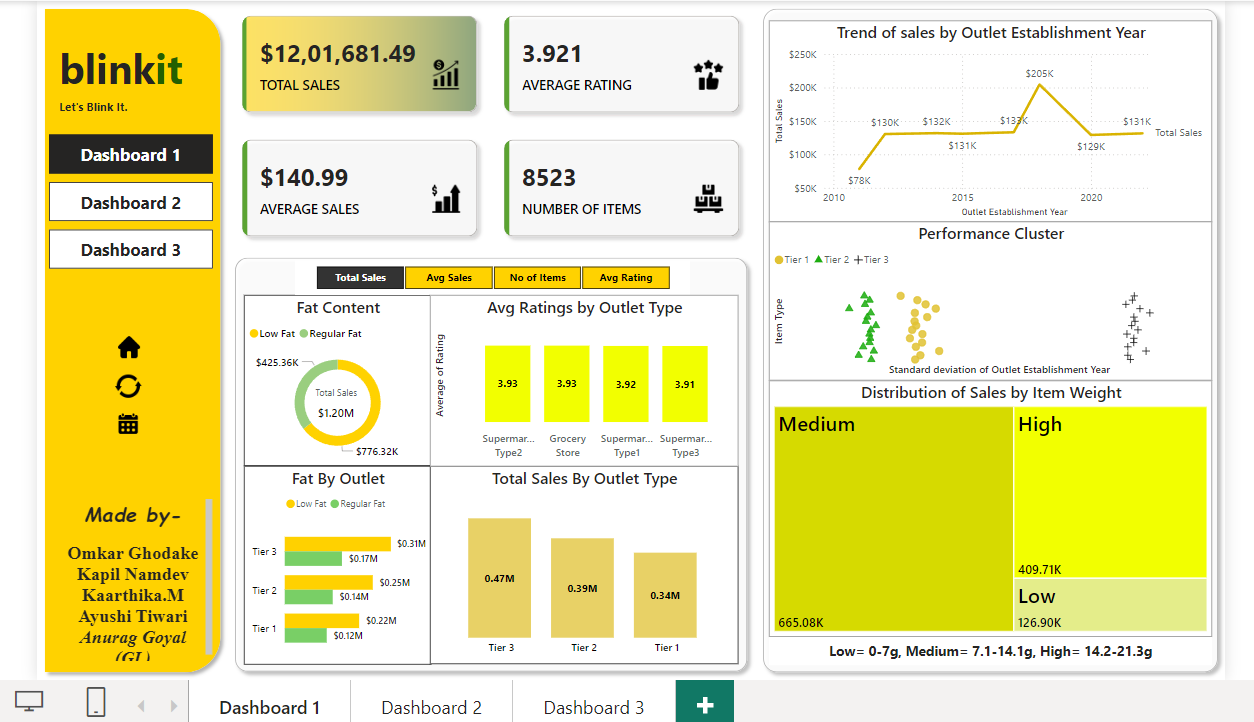

This screenshot's page, from the dashboard's own definition file:
{"tool":"powerbi","page":{"name":"Dashboard 1","canvas":[1400,800],"ordinal":0},"visuals":[{"type":"shape","box":[0,0,225.1,800],"z":0},{"type":"textbox","box":[21,40.5,178.6,84],"z":1000},{"type":"textbox","box":[21,109.6,126.1,31.5],"z":2000},{"type":"cardVisual","fields":{"Data":["BlinkIT Grocery Data.Total Sales","BlinkIT Grocery Data.Avg Rating","BlinkIT Grocery Data.Avg Sales","BlinkIT Grocery Data.No of Items"]},"box":[225.1,0,621.4,294.2],"z":3000},{"type":"shape","box":[225.1,294.2,621.4,505.8],"z":4000},{"type":"donutChart","title":"Fat Content","fields":{"Y":["BlinkIT Grocery Data.Total Sales"],"Category":["BlinkIT Grocery Data.Item Fat Content"]},"box":[243.1,346.7,220.6,201.1],"z":5000},{"type":"slicer","fields":{"Values":["Metrices.Metrices"]},"box":[303.2,306.2,465.3,40.5],"z":6000},{"type":"cardVisual","fields":{"Data":["BlinkIT Grocery Data.Total Sales"]},"box":[304.7,436.8,97.6,75],"z":7000},{"type":"clusteredBarChart","title":"Fat By Outlet","fields":{"Y":["BlinkIT Grocery Data.Total Sales"],"Category":["BlinkIT Grocery Data.Outlet Location Type"],"Series":["BlinkIT Grocery Data.Item Fat Content"]},"box":[243.1,547.8,220.6,234.1],"z":8000},{"type":"shape","box":[846.5,0,553.8,800],"z":9000},{"type":"lineChart","title":"Trend of sales by Outlet Establishment Year","fields":{"Y":["BlinkIT Grocery Data.Total Sales"],"Category":["BlinkIT Grocery Data.Outlet Establishment Year"]},"box":[863,22.5,522.3,237.1],"z":10000},{"type":"columnChart","title":"Total Sales By Outlet Type","fields":{"Y":["Sum(BlinkIT Grocery Data.Sales)"],"Category":["BlinkIT Grocery Data.Outlet Location Type"]},"box":[463.3,548.3,363.3,233.3],"z":11000},{"type":"scatterChart","title":"Performance Cluster","fields":{"X":["StandardDeviation(BlinkIT Grocery Data.Outlet Establishment Year)"],"Series":["BlinkIT Grocery Data.Outlet Location Type"],"Y":["BlinkIT Grocery Data.Item VarCar"]},"box":[863,259.6,522.3,187.6],"z":12000},{"type":"treemap","title":"Distribution of Sales by Item Weight","fields":{"Values":["Sum(BlinkIT Grocery Data.Sales)"],"Group":["BlinkIT Grocery Data.Weight Category"]},"box":[863,447.3,522.3,301.7],"z":13000},{"type":"clusteredColumnChart","title":"Avg Ratings by Outlet Type","fields":{"Y":["Avg(BlinkIT Grocery Data.Rating)"],"Category":["BlinkIT Grocery Data.Outlet Type"]},"box":[463.3,346.7,363.3,201.7],"z":14000},{"type":"textbox","box":[863,748.9,522.3,33],"z":15000},{"type":"pageNavigator","box":[15,157.6,193.6,159.1],"z":16000},{"type":"textbox","box":[21,580.8,190.6,201.1],"z":17000},{"type":"image","box":[89.9,383.1,36.2,48.2],"z":18000},{"type":"image","box":[87.2,428.7,41.5,48.2],"z":19000},{"type":"image","box":[83.2,478.3,48.2,37.5],"z":20000}]}

Visuals, with their boxes on the page's 1400x800 design canvas (x1, y1, x2, y2). These are canvas units, not pixel positions in the 1254x722 screenshot, which may show the page scaled, cropped or inside an application window:
shape: left=0, top=0, right=225, bottom=800
textbox: left=21, top=40, right=200, bottom=124
textbox: left=21, top=110, right=147, bottom=141
cardVisual - BlinkIT Grocery Data.Total Sales x BlinkIT Grocery Data.Avg Rating: left=225, top=0, right=846, bottom=294
shape: left=225, top=294, right=846, bottom=800
"Fat Content" donutChart: left=243, top=347, right=464, bottom=548
slicer - Metrices.Metrices: left=303, top=306, right=768, bottom=347
cardVisual - BlinkIT Grocery Data.Total Sales: left=305, top=437, right=402, bottom=512
"Fat By Outlet" clusteredBarChart: left=243, top=548, right=464, bottom=782
shape: left=846, top=0, right=1400, bottom=800
"Trend of sales by Outlet Establishment Year" lineChart: left=863, top=22, right=1385, bottom=260
"Total Sales By Outlet Type" columnChart: left=463, top=548, right=827, bottom=782
"Performance Cluster" scatterChart: left=863, top=260, right=1385, bottom=447
"Distribution of Sales by Item Weight" treemap: left=863, top=447, right=1385, bottom=749
"Avg Ratings by Outlet Type" clusteredColumnChart: left=463, top=347, right=827, bottom=548
textbox: left=863, top=749, right=1385, bottom=782
pageNavigator: left=15, top=158, right=209, bottom=317
textbox: left=21, top=581, right=212, bottom=782
image: left=90, top=383, right=126, bottom=431
image: left=87, top=429, right=129, bottom=477
image: left=83, top=478, right=131, bottom=516
